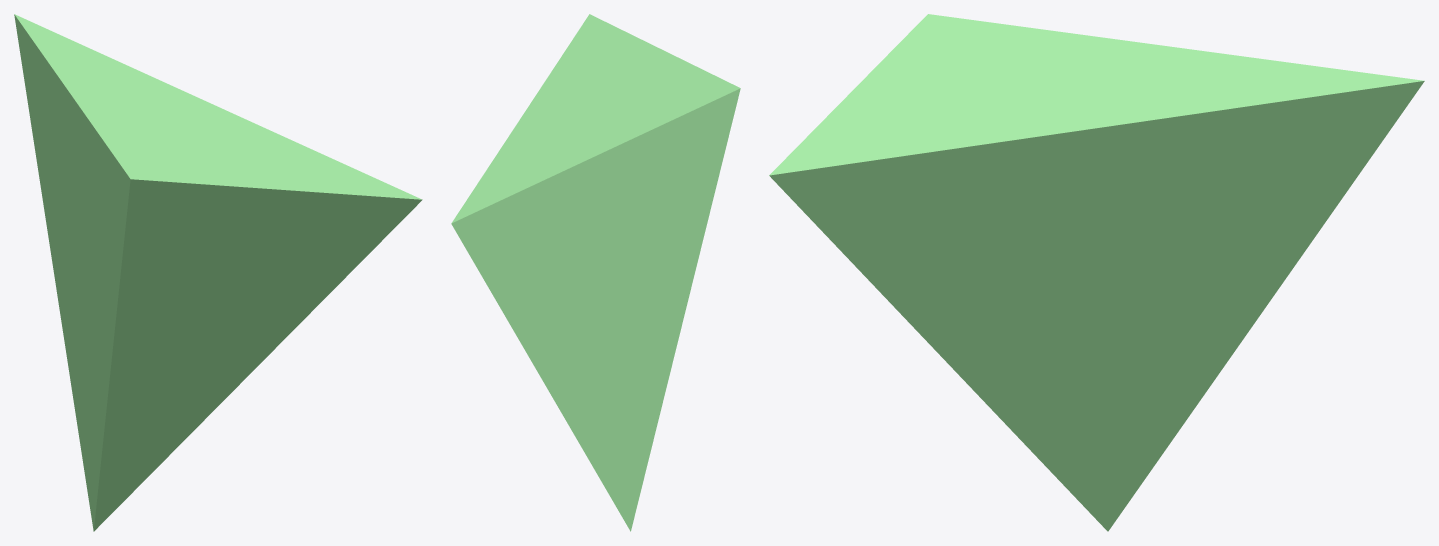
The model's file is UMIRobot_UMIRobot_link_2_convex_coll_27.dae.
3 views of the same model, side by side, from view 1: azimuth 30°, elevation 25°; view 2: azimuth 150°, elevation 25°; view 3: azimuth 270°, elevation 25° (orthographic). The views are drawn at different scales.
Parts seen in each view (by area): view 1: node; view 2: node; view 3: node.
Boxes of the visible parts, box(x1,y1,x2,y2) form: node: box(14, 14, 422, 531); node: box(451, 14, 740, 531); node: box(769, 14, 1424, 531).
Bounding box in the file's own units: 0.00893 × 0.0158 × 0.019.
